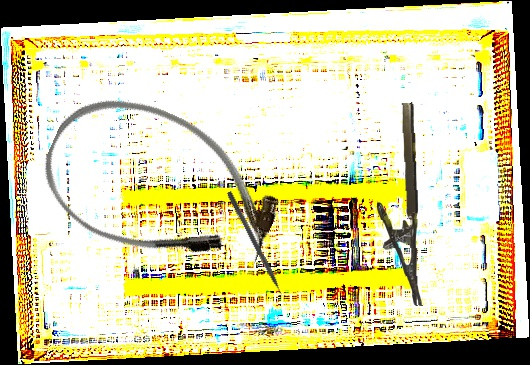Cannula: (25, 74, 297, 299)
Needle Holder: (373, 102, 423, 308)
Pusher: (225, 190, 289, 307)
